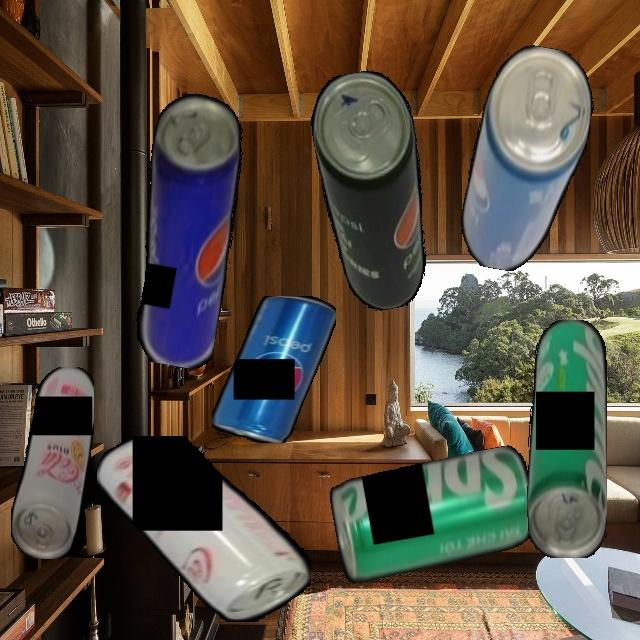debris: (97, 435, 311, 622), (116, 88, 256, 372), (454, 39, 602, 280), (304, 65, 444, 316), (327, 443, 542, 585), (526, 319, 607, 558), (211, 296, 336, 443), (10, 366, 94, 559)
